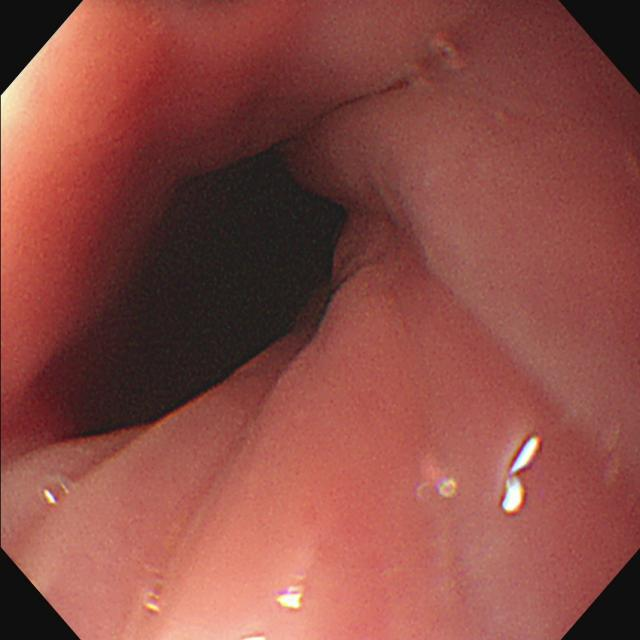E: (121, 129, 366, 400)
U: (501, 432, 545, 517), (277, 586, 305, 612), (40, 484, 58, 509)
